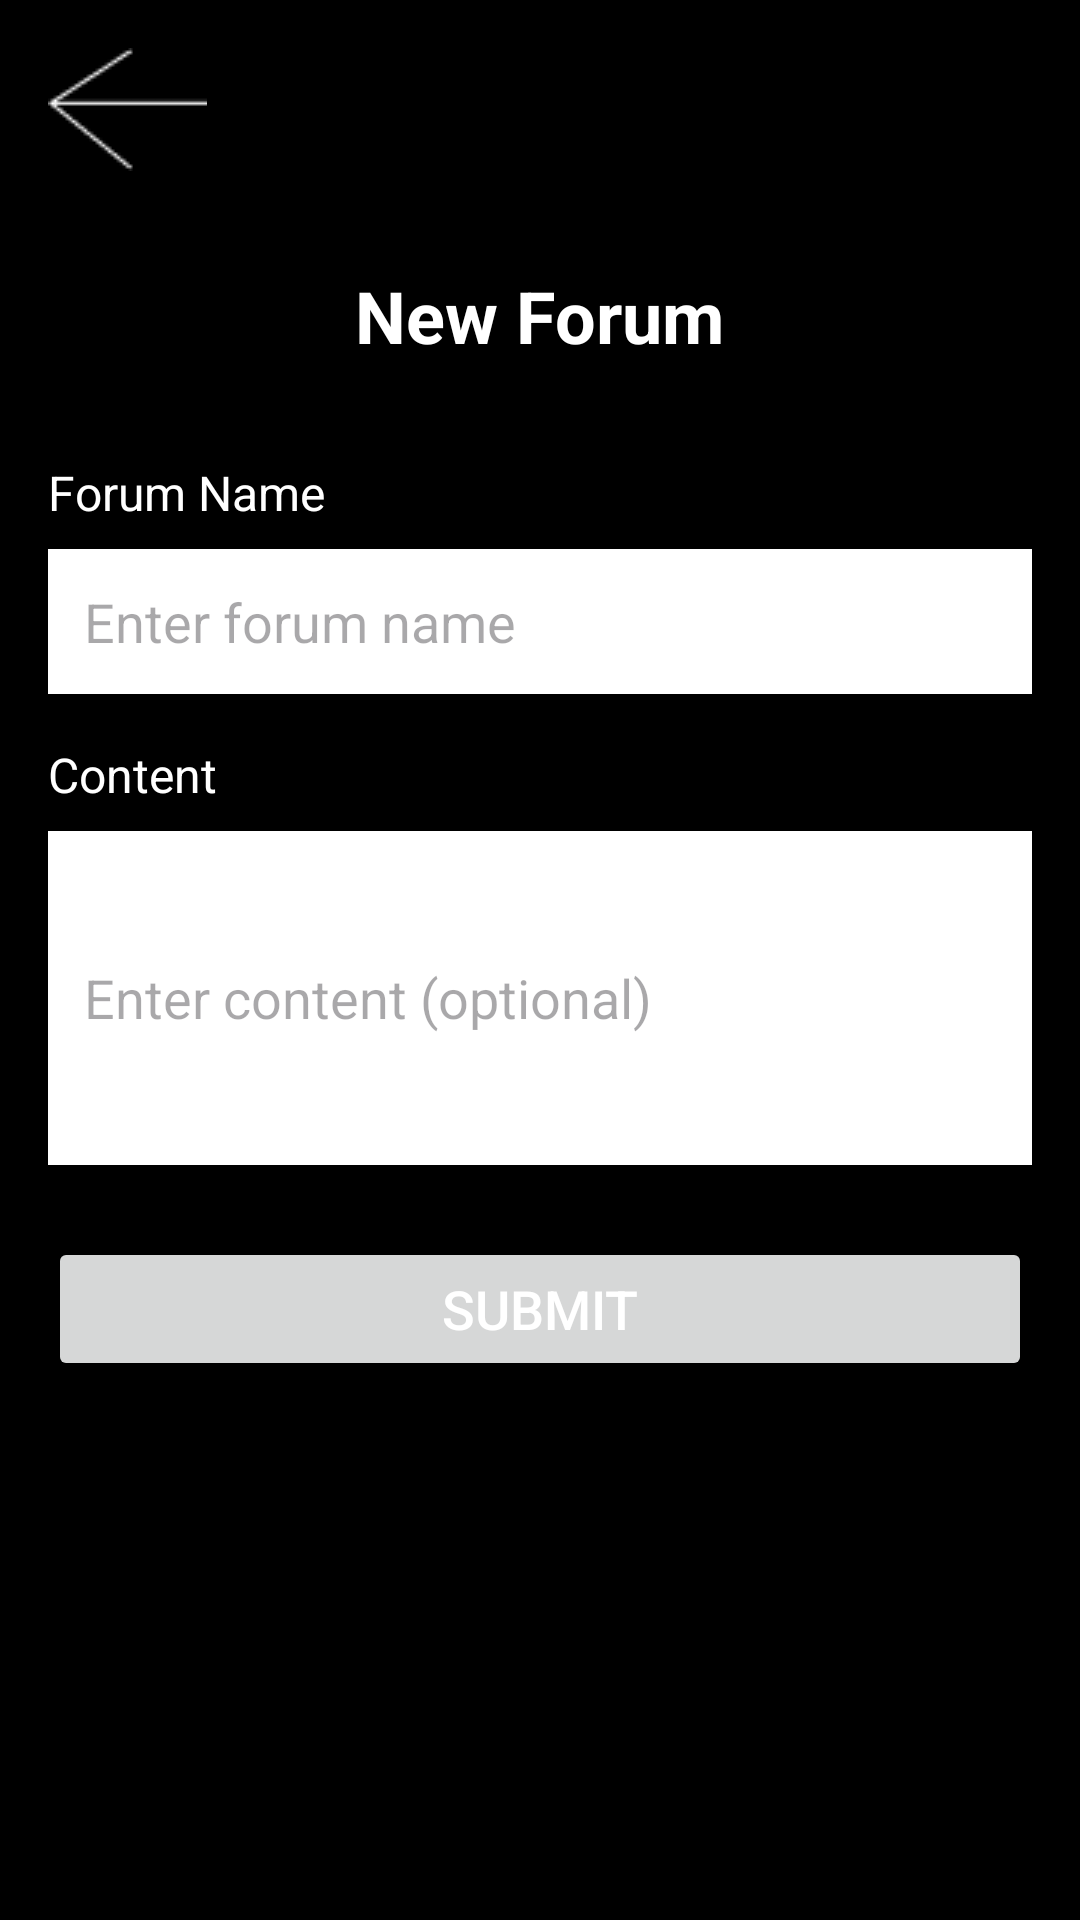

Named icons in this screenshot (1080px x 1920px) and their bounding boxes, (x1, y1, x2, y2):
Back: (48, 48, 207, 171)
